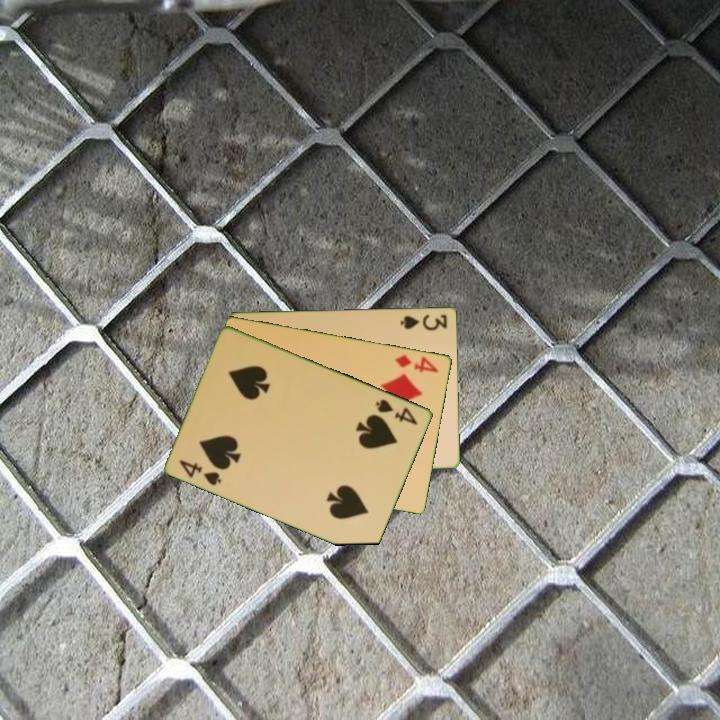3s: (397, 310, 450, 333)
4d: (392, 351, 441, 375)
4s: (372, 395, 421, 428), (176, 456, 225, 488)
